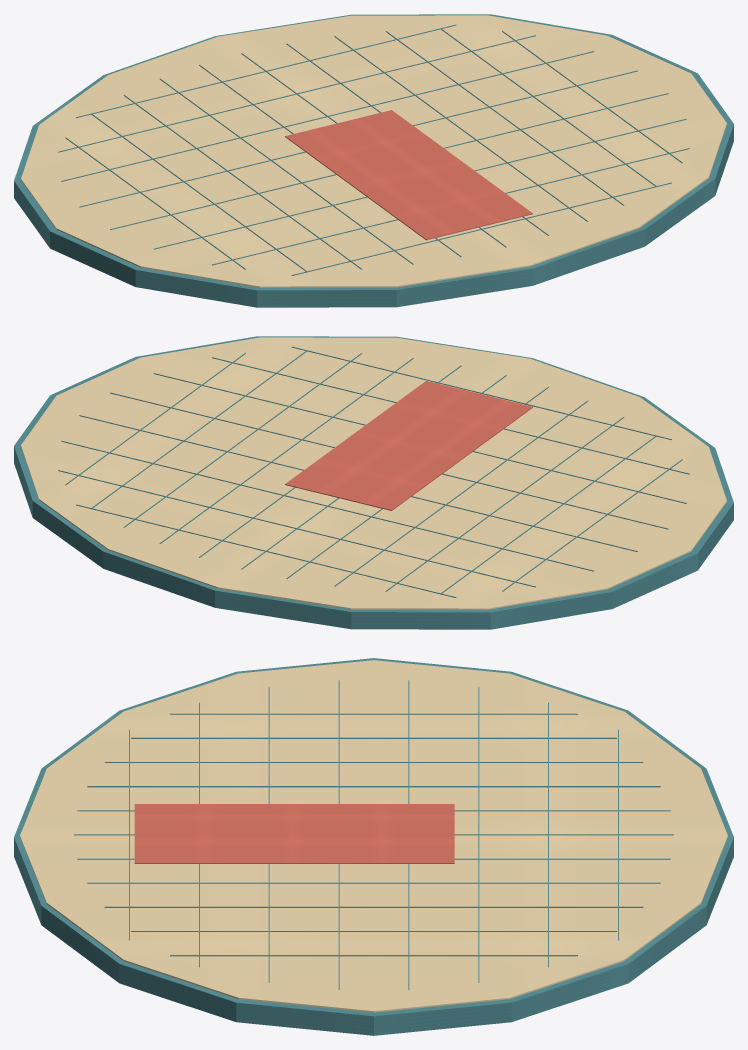
File: atlas100-s076-a07.glb
The picture shows the model from 3 angles, top to bottom: view 1: azimuth 30°, elevation 25°; view 2: azimuth 150°, elevation 25°; view 3: azimuth 270°, elevation 25°; orthographic projection. The views are drawn at different scales.
Parts seen in each view (by area): view 1: atlas100-s076-a07:part-001, atlas100-s076-a07:part-000, atlas100-s076-a07:part-021, atlas100-s076-a07:part-015, atlas100-s076-a07:part-014, atlas100-s076-a07:part-017, atlas100-s076-a07:part-016, atlas100-s076-a07:part-018, atlas100-s076-a07:part-020, atlas100-s076-a07:part-013, atlas100-s076-a07:part-019, atlas100-s076-a07:part-009 (+3 smaller); view 2: atlas100-s076-a07:part-001, atlas100-s076-a07:part-000, atlas100-s076-a07:part-021, atlas100-s076-a07:part-015, atlas100-s076-a07:part-014, atlas100-s076-a07:part-016, atlas100-s076-a07:part-017, atlas100-s076-a07:part-018, atlas100-s076-a07:part-013, atlas100-s076-a07:part-020, atlas100-s076-a07:part-019, atlas100-s076-a07:part-005 (+3 smaller); view 3: atlas100-s076-a07:part-001, atlas100-s076-a07:part-000, atlas100-s076-a07:part-021, atlas100-s076-a07:part-009, atlas100-s076-a07:part-005, atlas100-s076-a07:part-010, atlas100-s076-a07:part-003, atlas100-s076-a07:part-002, atlas100-s076-a07:part-012.
Boxes of the visible parts, x1,y1,x2,y2 form: atlas100-s076-a07:part-001: (21,15,726,287); atlas100-s076-a07:part-000: (14,14,733,307); atlas100-s076-a07:part-021: (285,110,532,240); atlas100-s076-a07:part-015: (61,51,594,181); atlas100-s076-a07:part-014: (58,35,535,152); atlas100-s076-a07:part-017: (110,93,668,229); atlas100-s076-a07:part-016: (79,70,637,207); atlas100-s076-a07:part-018: (154,118,686,249); atlas100-s076-a07:part-020: (291,182,671,275); atlas100-s076-a07:part-013: (76,24,456,117); atlas100-s076-a07:part-019: (212,148,689,265); atlas100-s076-a07:part-009: (334,36,588,221); atlas100-s076-a07:part-001: (21,337,726,609); atlas100-s076-a07:part-000: (14,336,733,629); atlas100-s076-a07:part-021: (285,381,532,510); atlas100-s076-a07:part-015: (61,440,593,571); atlas100-s076-a07:part-014: (58,470,535,587); atlas100-s076-a07:part-016: (79,415,637,551); atlas100-s076-a07:part-017: (110,392,668,529); atlas100-s076-a07:part-018: (153,373,686,503); atlas100-s076-a07:part-013: (76,504,456,597); atlas100-s076-a07:part-020: (291,346,671,439); atlas100-s076-a07:part-019: (212,357,689,474); atlas100-s076-a07:part-005: (334,400,587,586); atlas100-s076-a07:part-001: (20,660,727,1012); atlas100-s076-a07:part-000: (14,658,733,1035); atlas100-s076-a07:part-021: (134,804,454,863); atlas100-s076-a07:part-009: (87,882,660,883); atlas100-s076-a07:part-005: (87,786,660,787); atlas100-s076-a07:part-010: (104,906,643,907); atlas100-s076-a07:part-003: (131,737,616,738); atlas100-s076-a07:part-002: (170,713,577,714); atlas100-s076-a07:part-012: (170,955,577,956).
Size of the model in its own units: 13.35 by 0.404 by 11.34.
3 materials, 3 textured.
